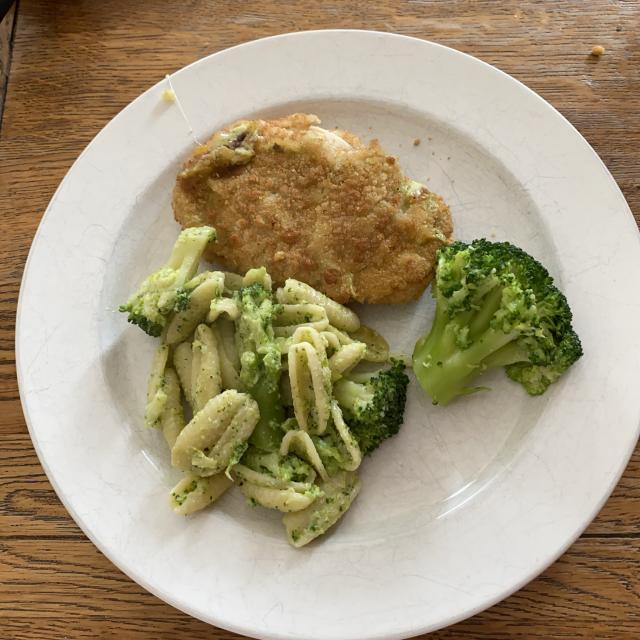cordon-bleu-from-pork-schnitzel-fried: (166, 120, 441, 314)
pasta: (157, 235, 368, 547)
